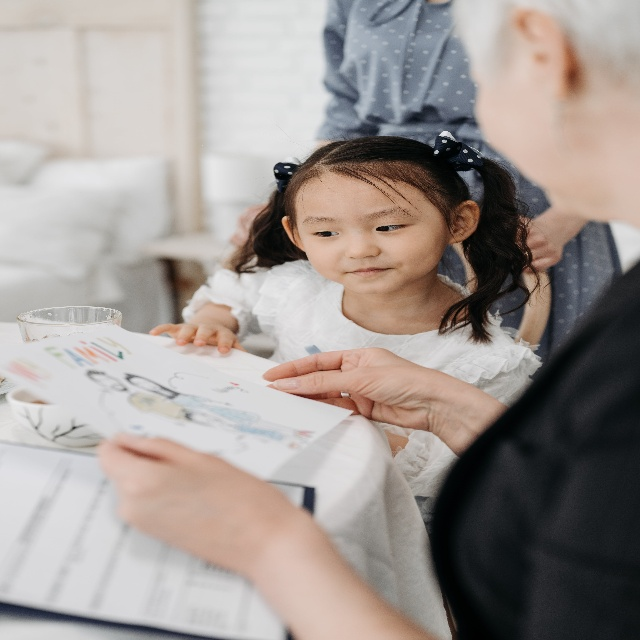Sin_guantes: (98, 423, 299, 601), (261, 341, 435, 444), (149, 308, 248, 356), (514, 211, 564, 275)
